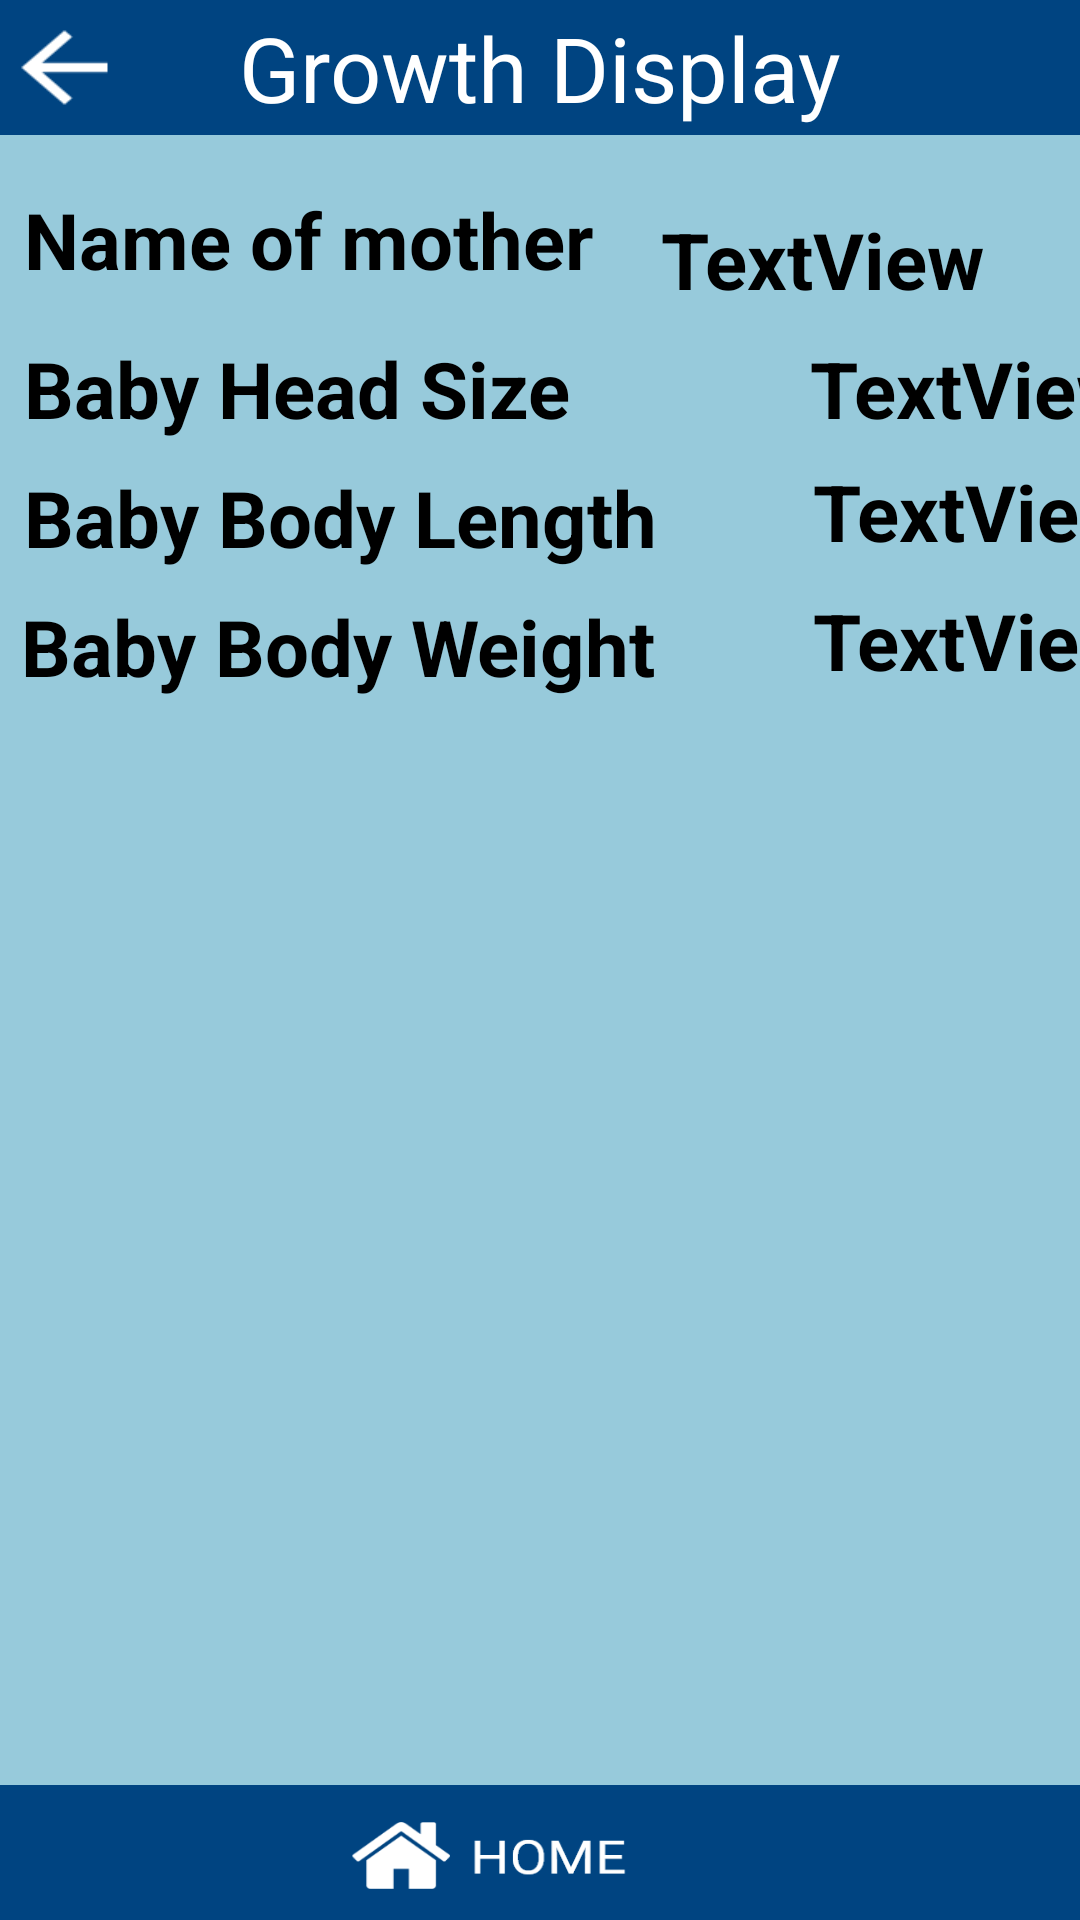

Where icons sit on this 1080 x 1920 app screen, as (x1, y1, x2, y2):
back: (21, 30, 108, 105)
